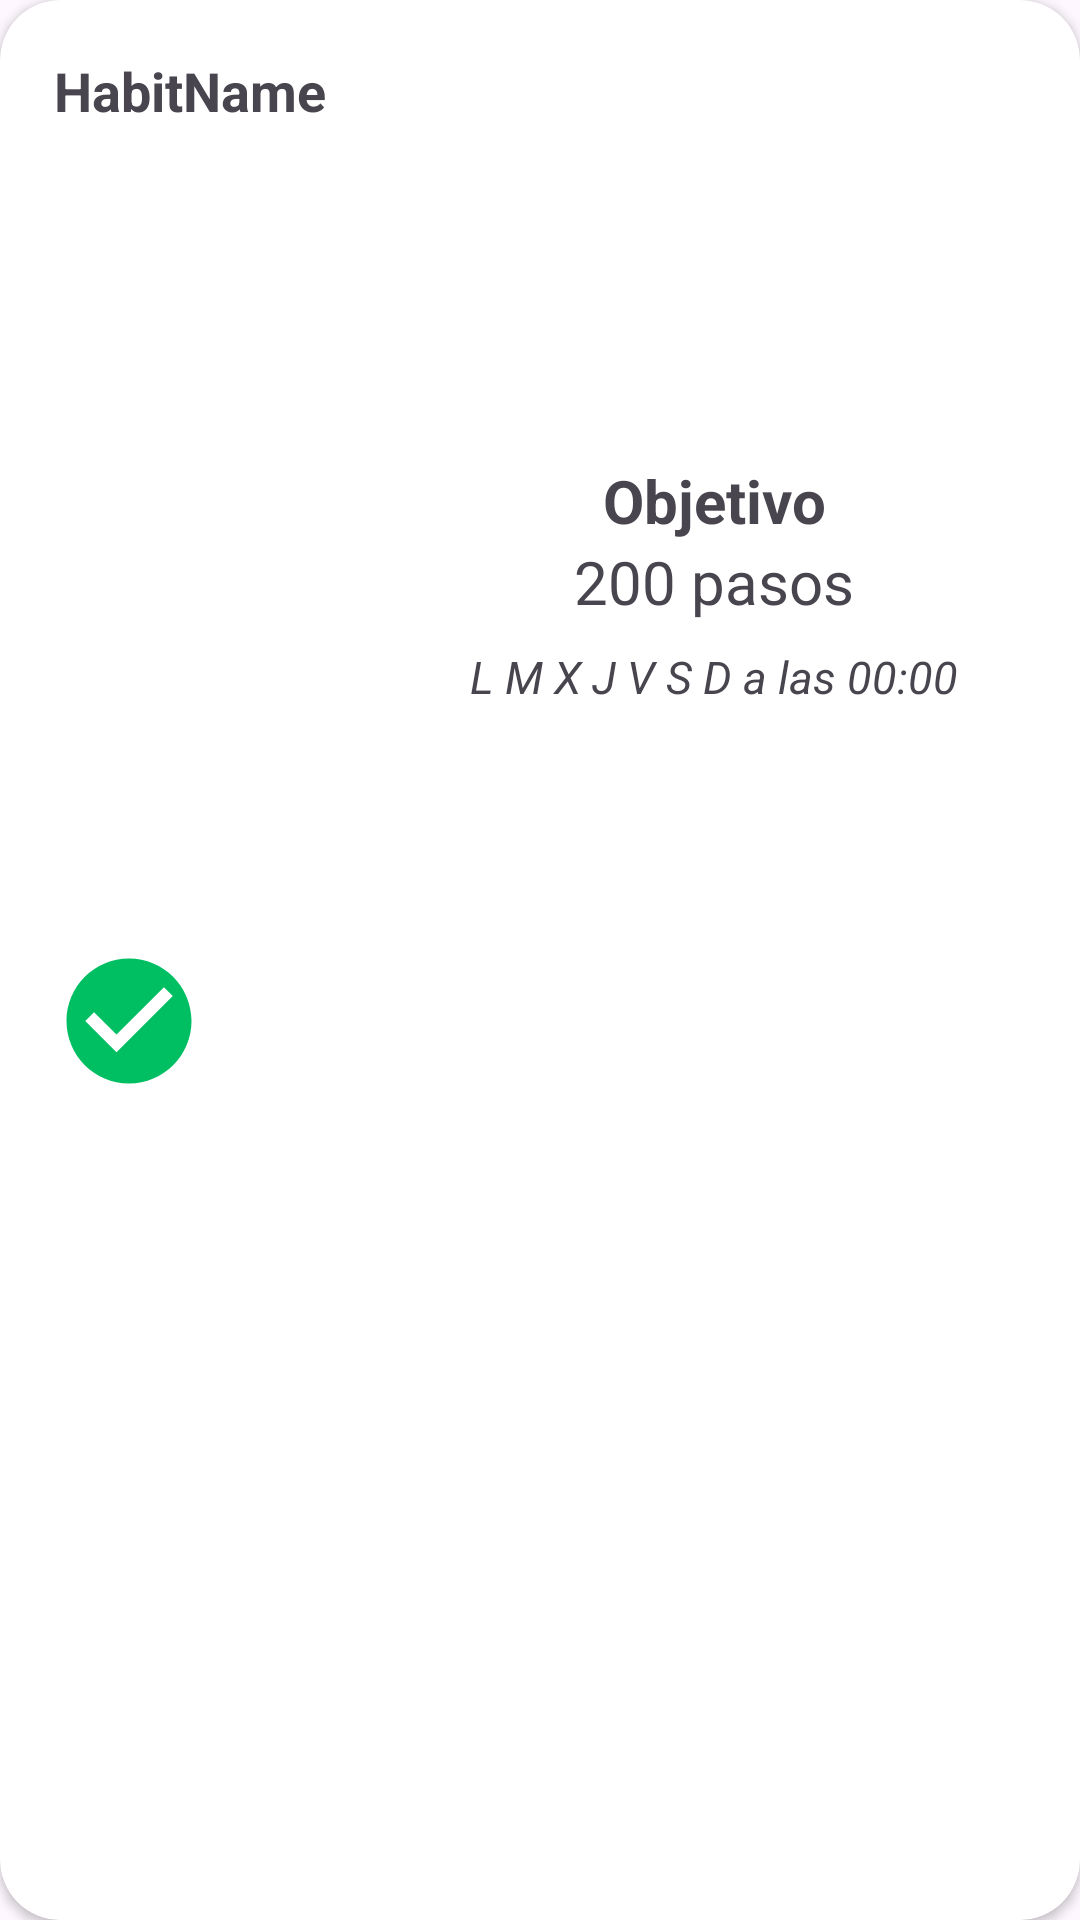

Where icons sit on this 1080 x 1920 app screen, as bbox=[x1, y1, x2, y2]:
checkpositive: bbox=[66, 958, 192, 1084]
